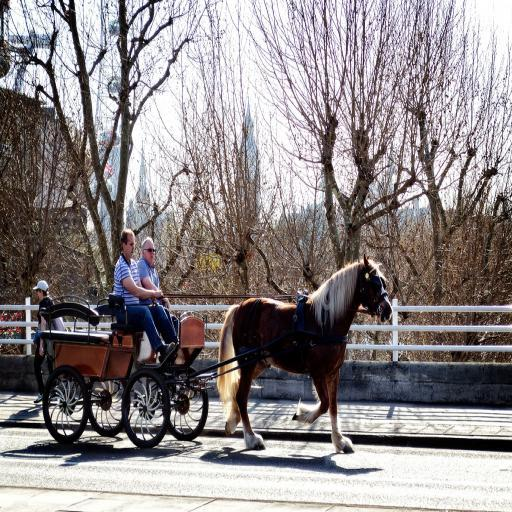Horse: (214, 254, 396, 451)
